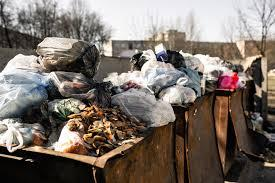trash: (1, 24, 173, 161), (116, 42, 208, 104), (188, 48, 257, 92)
trash_can_overflow: (1, 17, 176, 183), (114, 24, 228, 182), (200, 29, 261, 181)
